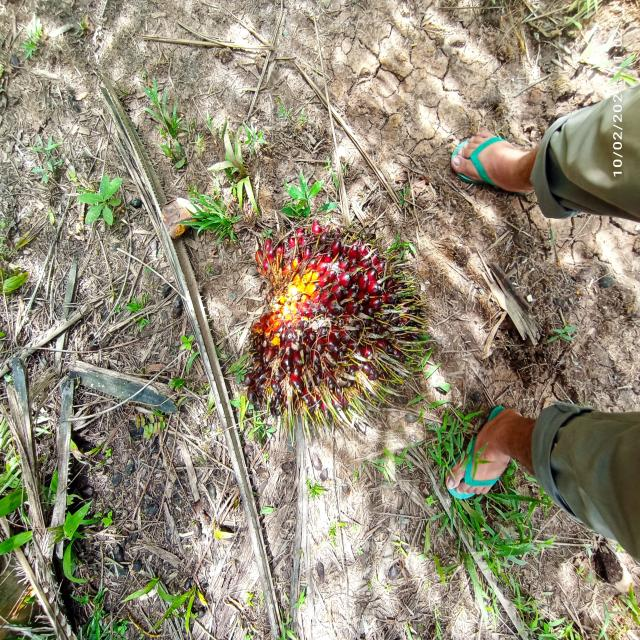fraksi 1: (222, 206, 428, 449)
